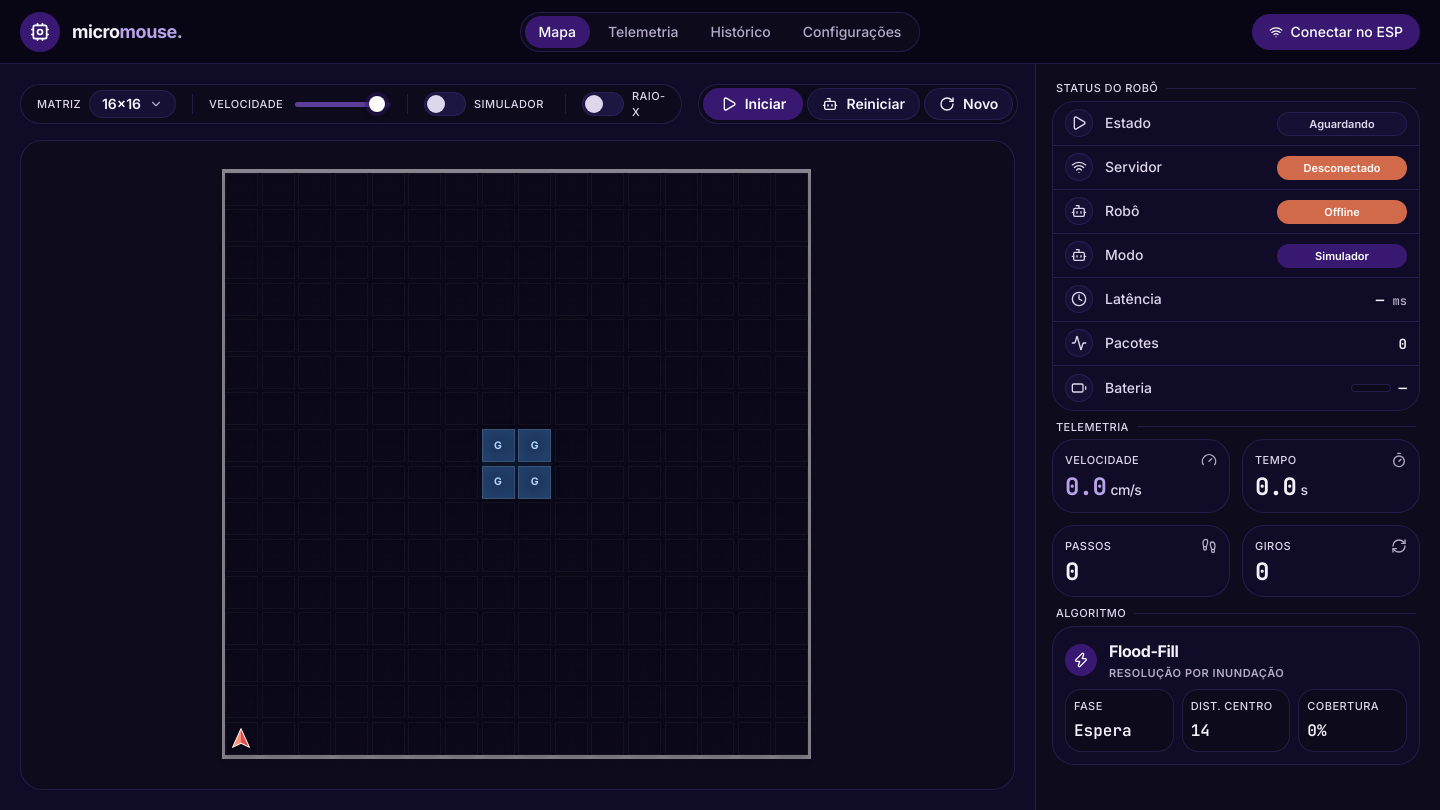
it: histórico: ranking e detalhe/replay › corrida sem trajeto mostra "indisponível"
Click the button "Histórico".
click(741, 32)  # box top-left (696, 16), bottom-right (785, 48)
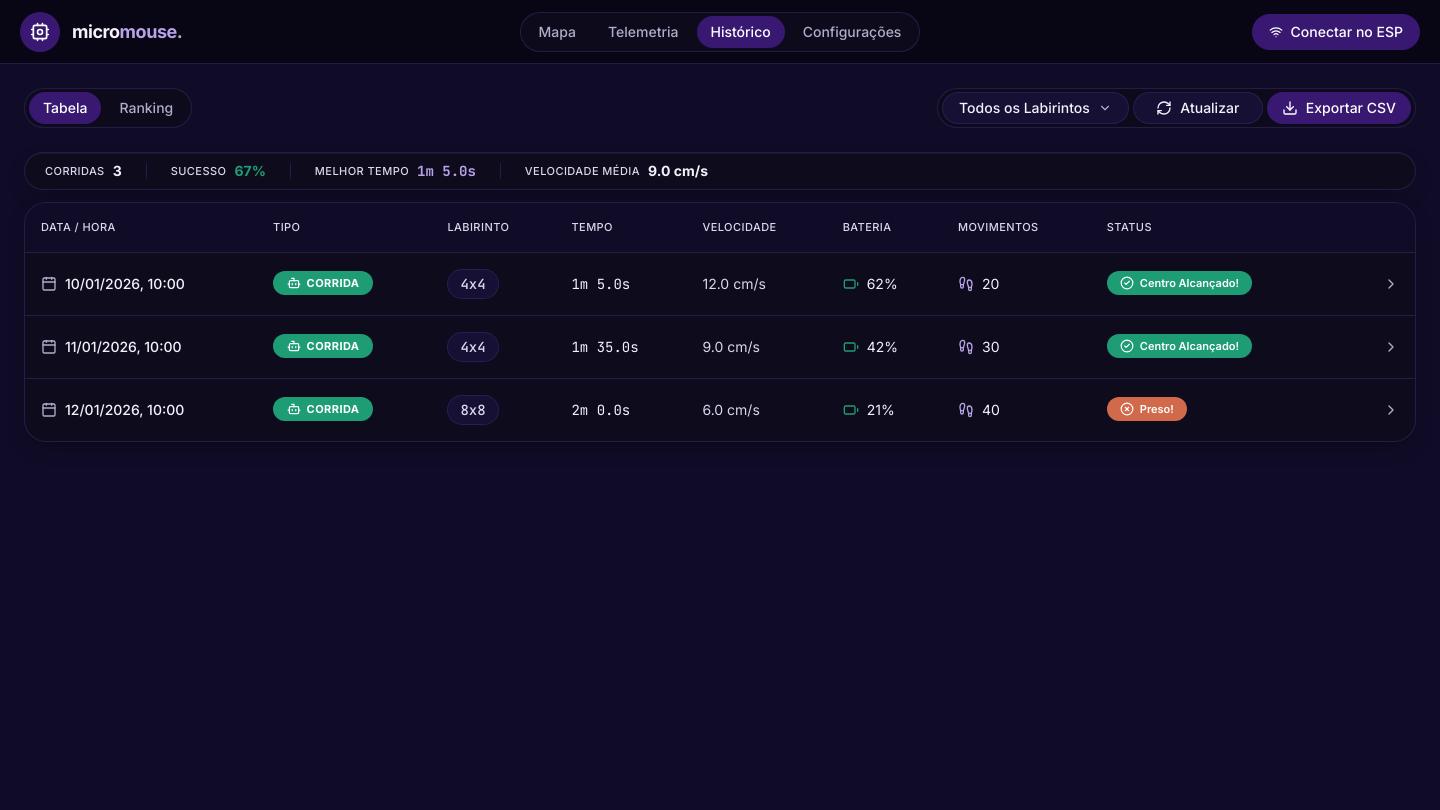
Expected: the element with test id "historico-view" is shown
Click the 2nd row with test id "corrida-item".
click(720, 346)  # box top-left (25, 315), bottom-right (1415, 378)
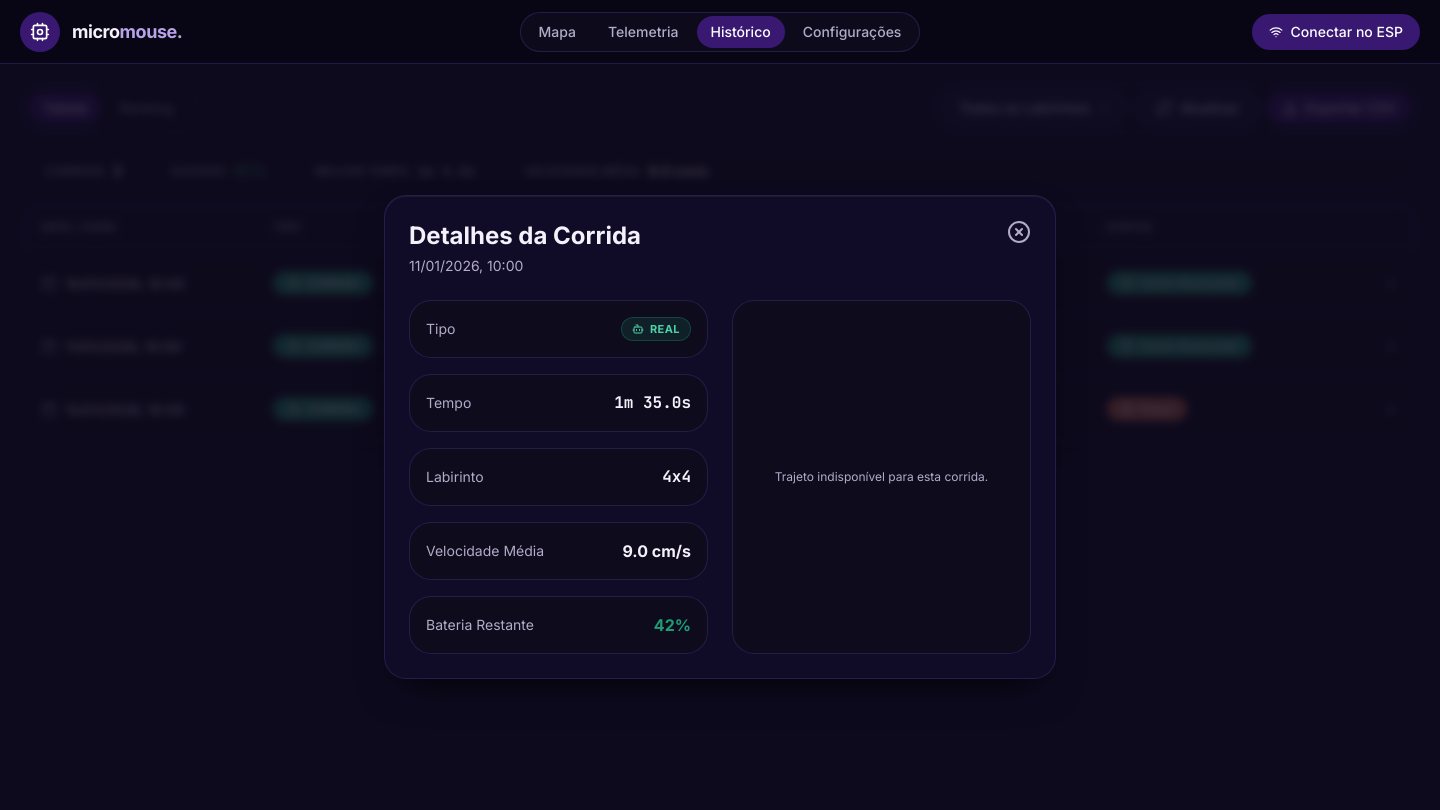
Expected: the heading "Detalhes da Corrida" is shown, top-left (409, 220), bottom-right (641, 252)
Expected: the text "Trajeto indisponível para esta corrida." is shown, top-left (732, 300), bottom-right (1031, 654)
